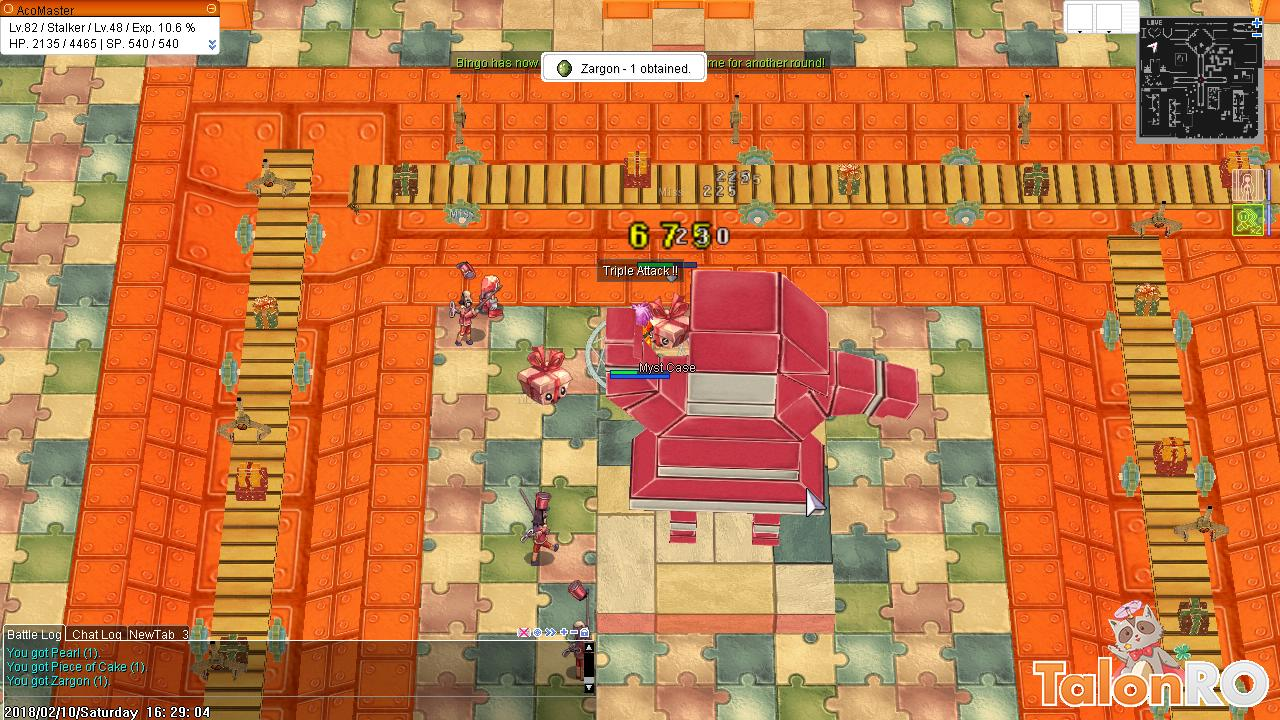mob: (502, 483, 570, 573), (448, 256, 486, 354)
myst_case: (515, 338, 579, 411), (647, 293, 692, 353)
